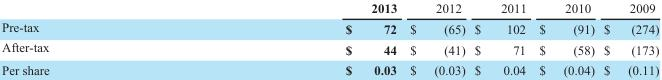table: (1, 0, 658, 77)
table column: (196, 0, 402, 77), (1, 0, 196, 77), (402, 0, 469, 77), (532, 0, 598, 77), (469, 0, 532, 77), (598, 0, 658, 77)
table column header: (1, 0, 658, 17)
table row: (1, 37, 658, 59), (1, 17, 658, 37), (1, 59, 658, 77), (1, 0, 658, 17)
